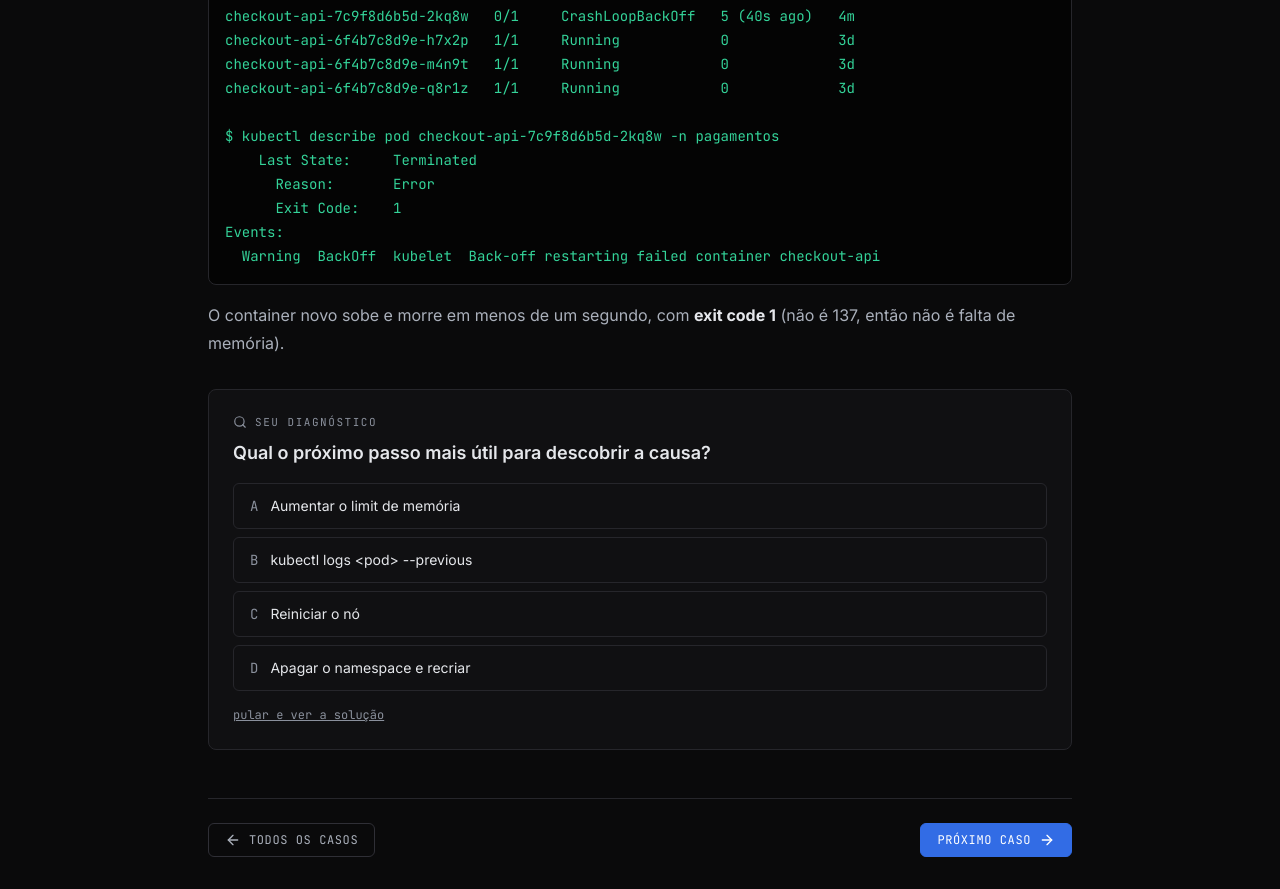
case study access › records the diagnosis for an authenticated student
(page scrolled)
Click the text "kubectl logs <pod> --previous" at [371, 559], box 270,550 -> 472,568
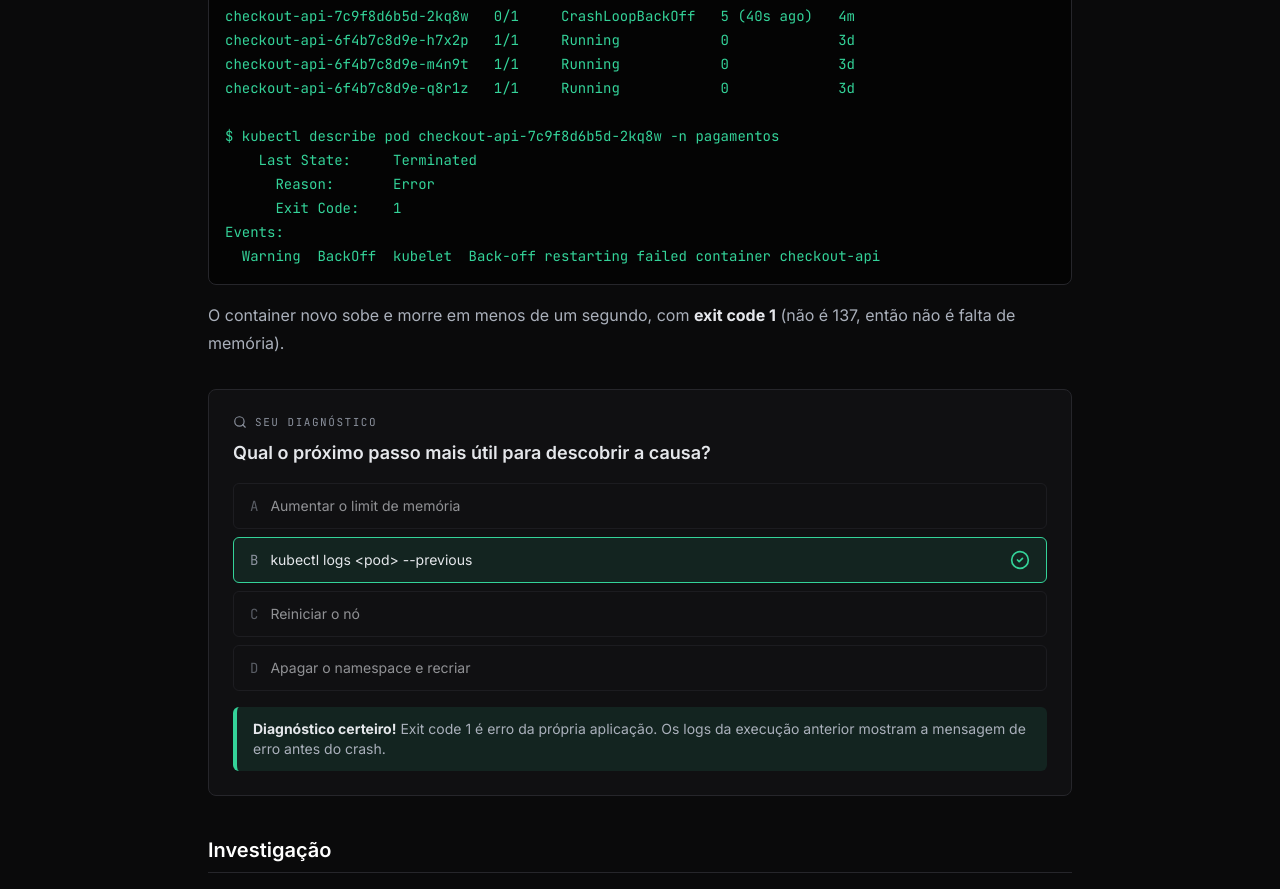
expect the text "Diagnóstico certeiro!" is shown: met, box 253,720 -> 396,736
